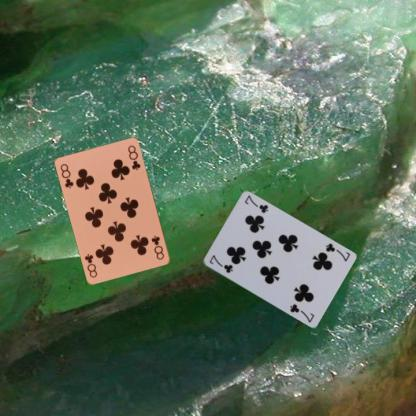7c: (323, 240, 351, 263), (206, 252, 234, 274)
8c: (58, 161, 75, 190), (149, 233, 166, 261)
